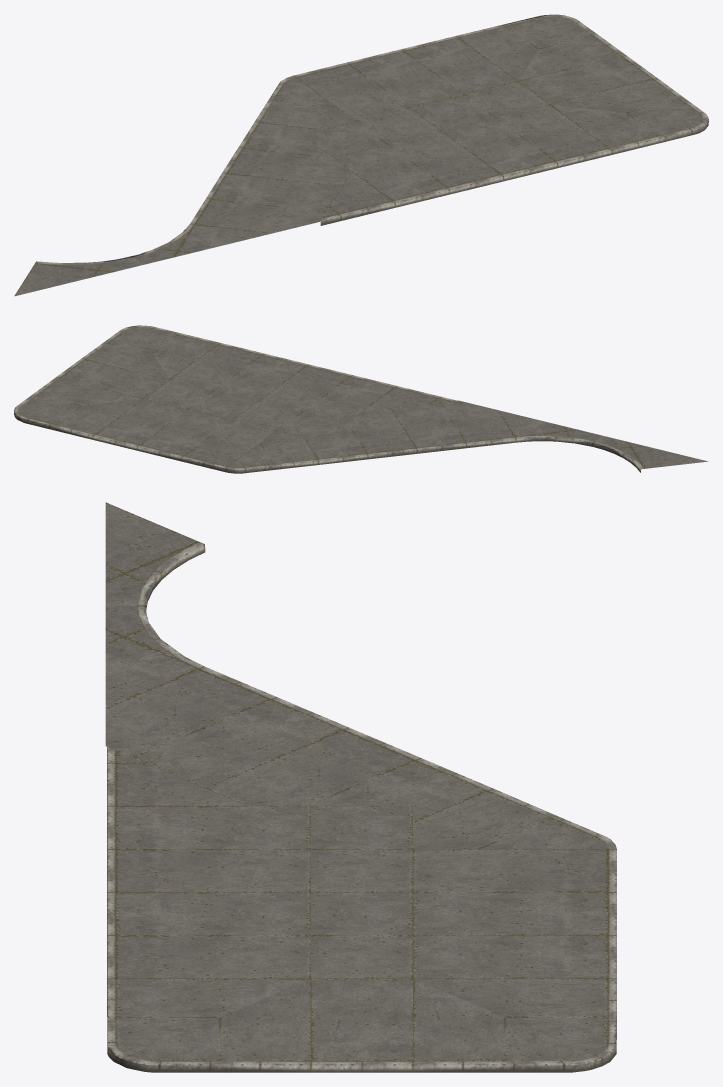
The model's file is pavemnent_trainyard_c.glb.
3 views of the same model, one above another, from view 1: azimuth 30°, elevation 25°; view 2: azimuth 150°, elevation 25°; view 3: azimuth 270°, elevation 25° (orthographic). The views are drawn at different scales.
Visible parts, largest first — view 1: pavemnent_trainyard_c_LOD0; view 2: pavemnent_trainyard_c_LOD0; view 3: pavemnent_trainyard_c_LOD0.
Part boxes in pixels (box(x1,y1,x2,y2)): pavemnent_trainyard_c_LOD0: box(14, 14, 708, 296); pavemnent_trainyard_c_LOD0: box(14, 325, 708, 473); pavemnent_trainyard_c_LOD0: box(105, 502, 616, 1072).
Size of the model in its own units: 39.15 by 0.2509 by 15.04.
Materials: 1 (1 with a texture image).
